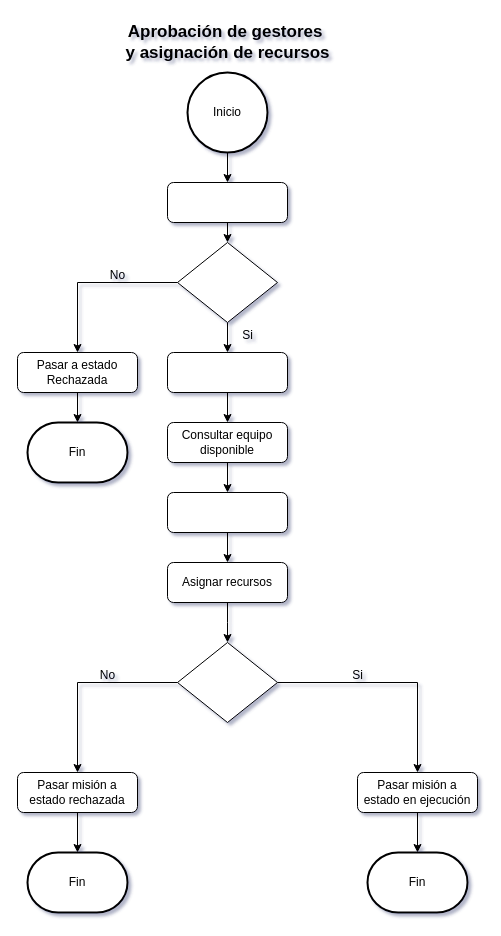
Some shapes in this 501 by 936 pixel diagram are drawn without their labels. Here are the shapes that lost their labels. From the top down, the box of each, then its label:
(166, 182, 288, 222): Misión en estado Iniciada
(176, 242, 278, 322): Jefe Datos Aprueba
(166, 352, 288, 392): Consultar empleados disponibles con roles requeridos
(166, 492, 288, 532): Consultar transportes disponibles
(176, 642, 278, 722): Gestores dan visto bueno
